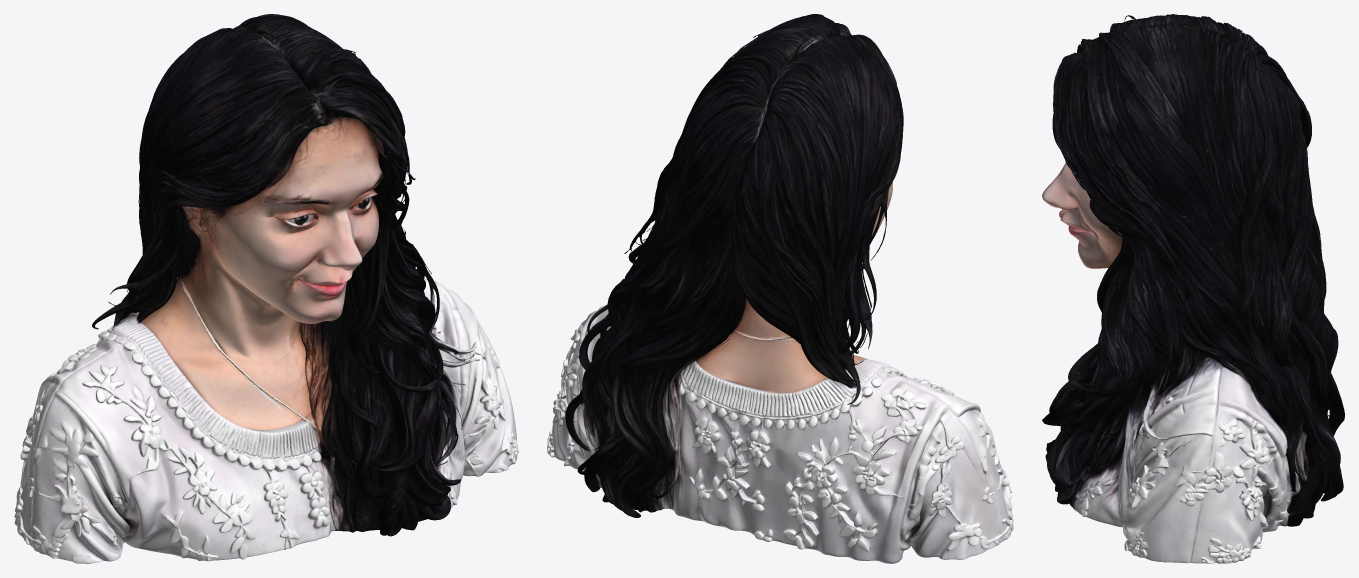
The picture shows the model from 3 angles, left to right: view 1: azimuth 30°, elevation 25°; view 2: azimuth 150°, elevation 25°; view 3: azimuth 270°, elevation 25°; orthographic projection. The views are drawn at different scales.
Visible parts, largest first — view 1: geometry_0; view 2: geometry_0; view 3: geometry_0.
Part boxes in pixels (box(x1,y1,x2,y2)): geometry_0: box(14, 14, 518, 563); geometry_0: box(547, 14, 1013, 563); geometry_0: box(1042, 14, 1344, 563).
Bounding box in the file's own units: 1.9 × 1.82 × 1.15.
Materials: 1 (1 with a texture image).
